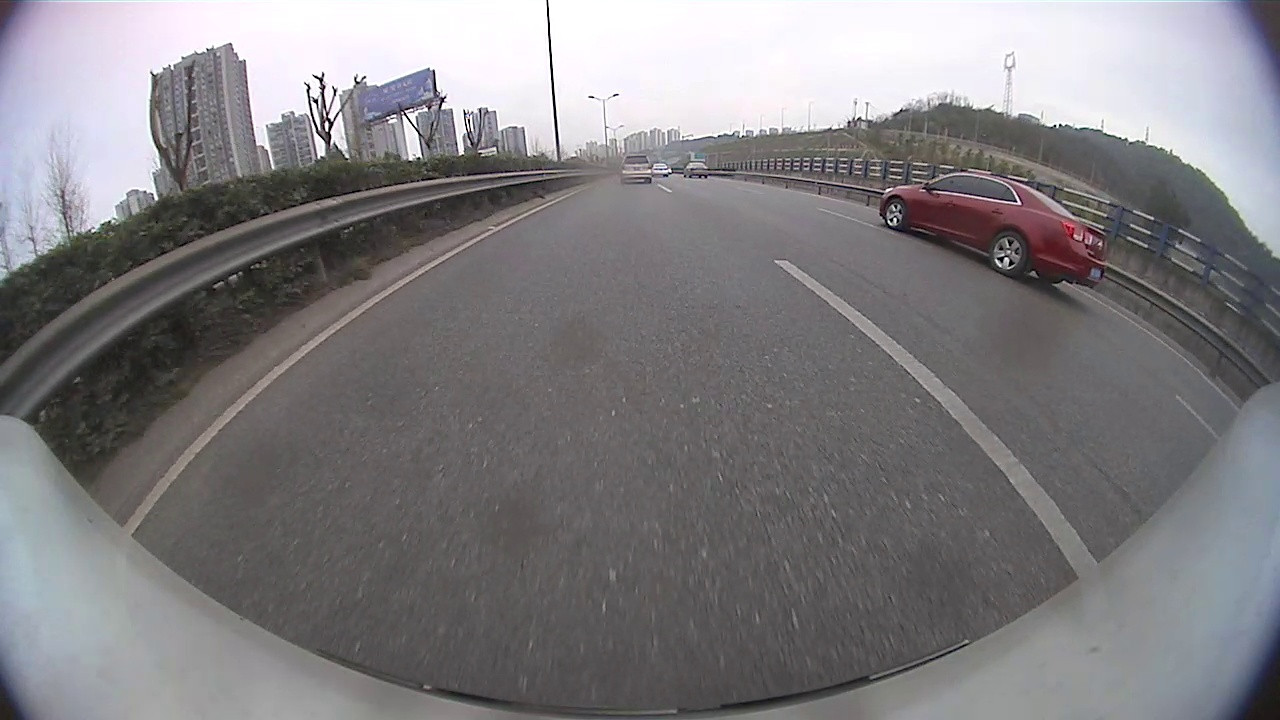car: (878, 169, 1113, 287), (619, 152, 652, 184)
front: (883, 201, 906, 231)
rear: (989, 232, 1027, 278)
